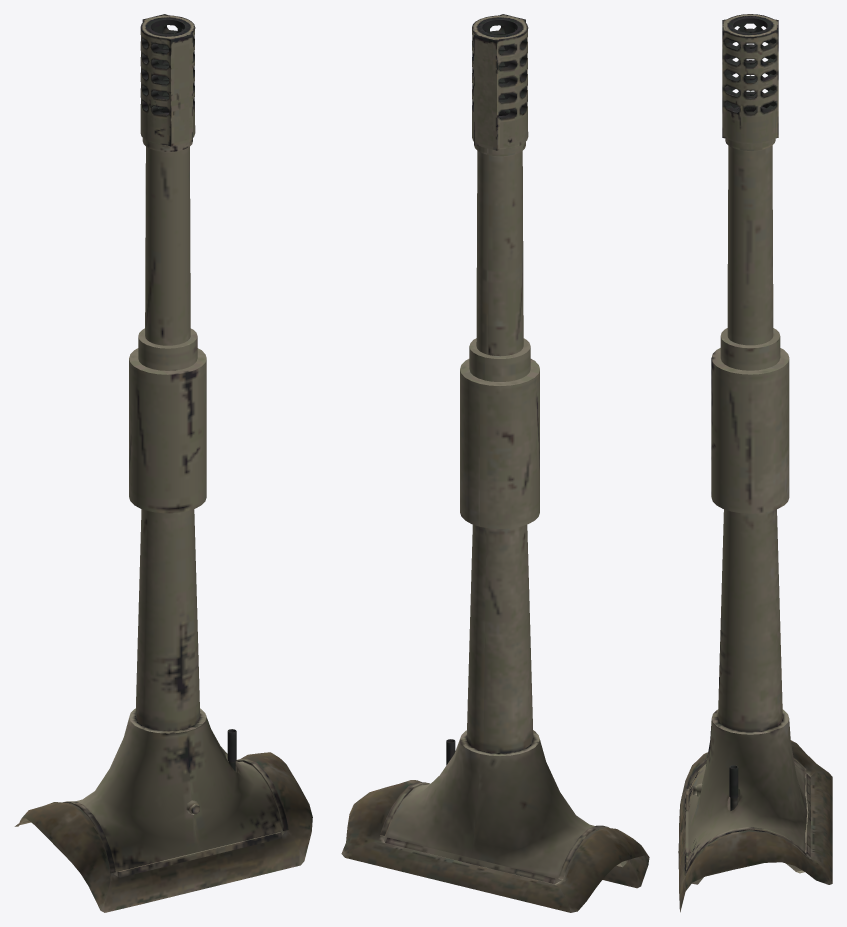
Rendered from Gun_04.glb.
3 renders of one model, left to right at view 1: azimuth 30°, elevation 25°; view 2: azimuth 150°, elevation 25°; view 3: azimuth 270°, elevation 25°, orthographic. The views are drawn at different scales.
Parts seen in each view (by area): view 1: set_0_group_0; view 2: set_0_group_0; view 3: set_0_group_0.
Boxes of the visible parts, left/top/right/bottom form: set_0_group_0: left=14, top=14, right=312, bottom=912; set_0_group_0: left=341, top=14, right=649, bottom=912; set_0_group_0: left=678, top=14, right=832, bottom=912.
Size of the model in its own units: 0.9916 by 3.14 by 0.523.
1 material, 1 textured.
